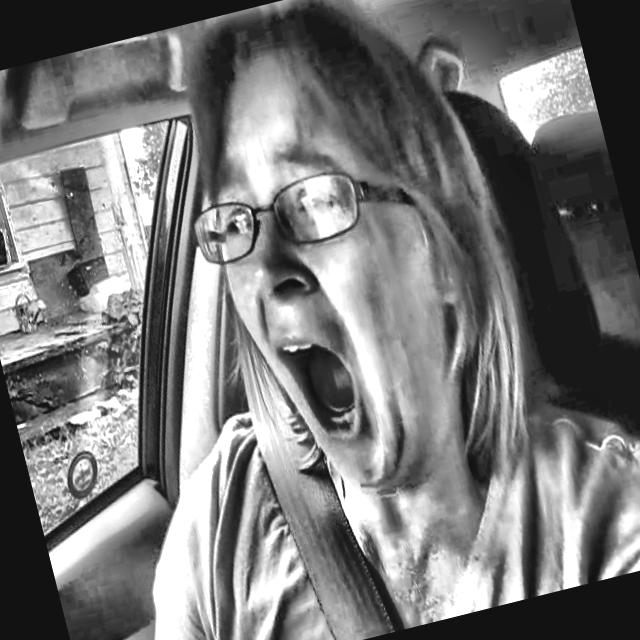open_mouth: (255, 329, 374, 458)
